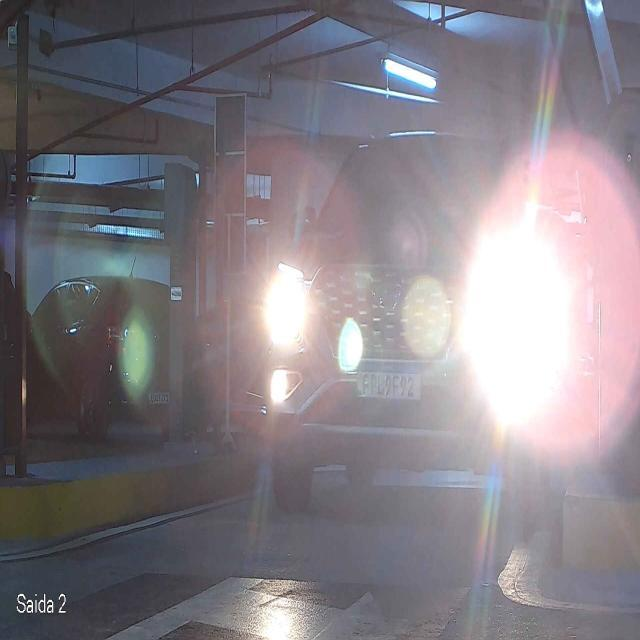mercosul_plate: (355, 359, 423, 402)
